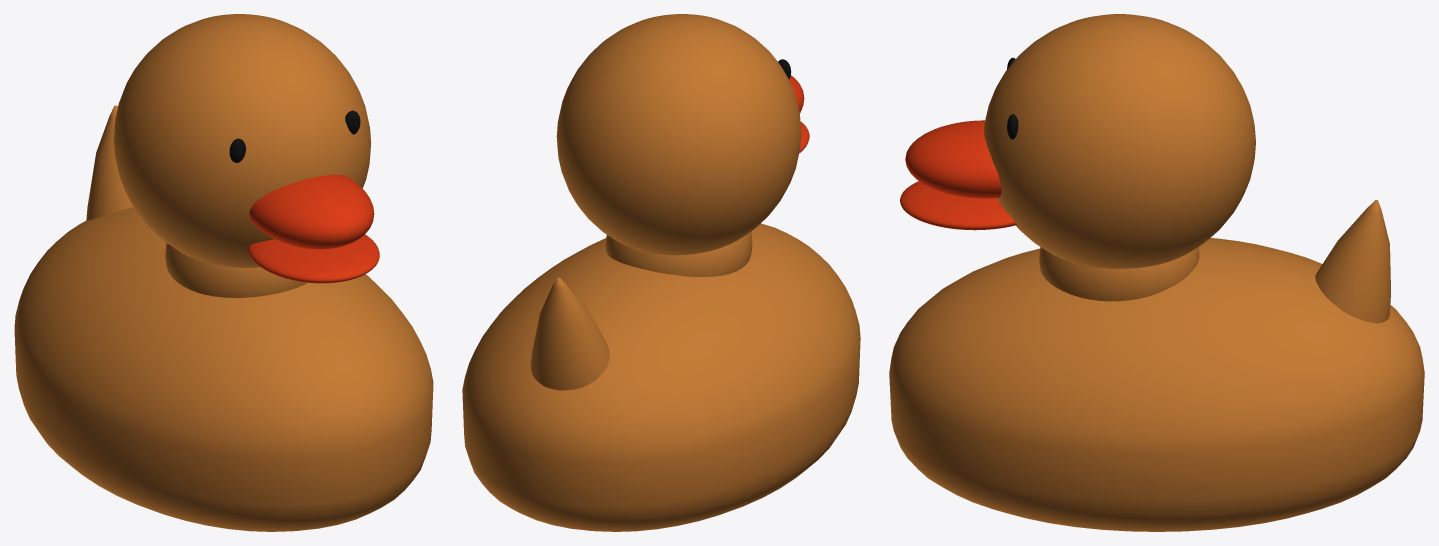
File: result.glb
3 views of the same model, side by side, from view 1: azimuth 30°, elevation 25°; view 2: azimuth 150°, elevation 25°; view 3: azimuth 270°, elevation 25° (orthographic). The views are drawn at different scales.
Visible parts, largest first — view 1: Body, head, Neck, Tail; view 2: Body, head, Tail, Neck; view 3: Body, head, Tail, Neck.
Boxes of the visible parts, x1,y1,x2,y2 form: Body: (14,207,433,531); head: (113,14,379,283); Neck: (165,243,306,297); Tail: (86,105,133,220); Body: (462,223,860,531); head: (556,14,809,255); Tail: (530,277,609,390); Neck: (605,232,752,276); Body: (889,238,1424,531); head: (900,14,1255,268); Tail: (1315,200,1390,323); Neck: (1039,247,1199,301).
Size of the model in its own units: 0.712 by 0.94 by 1.
Materials: 6 (6 with a texture image).
